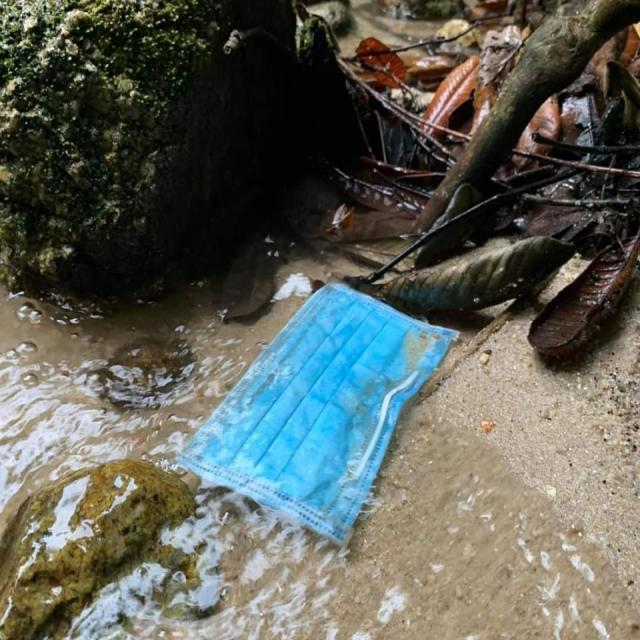Mask: (168, 276, 462, 554)
